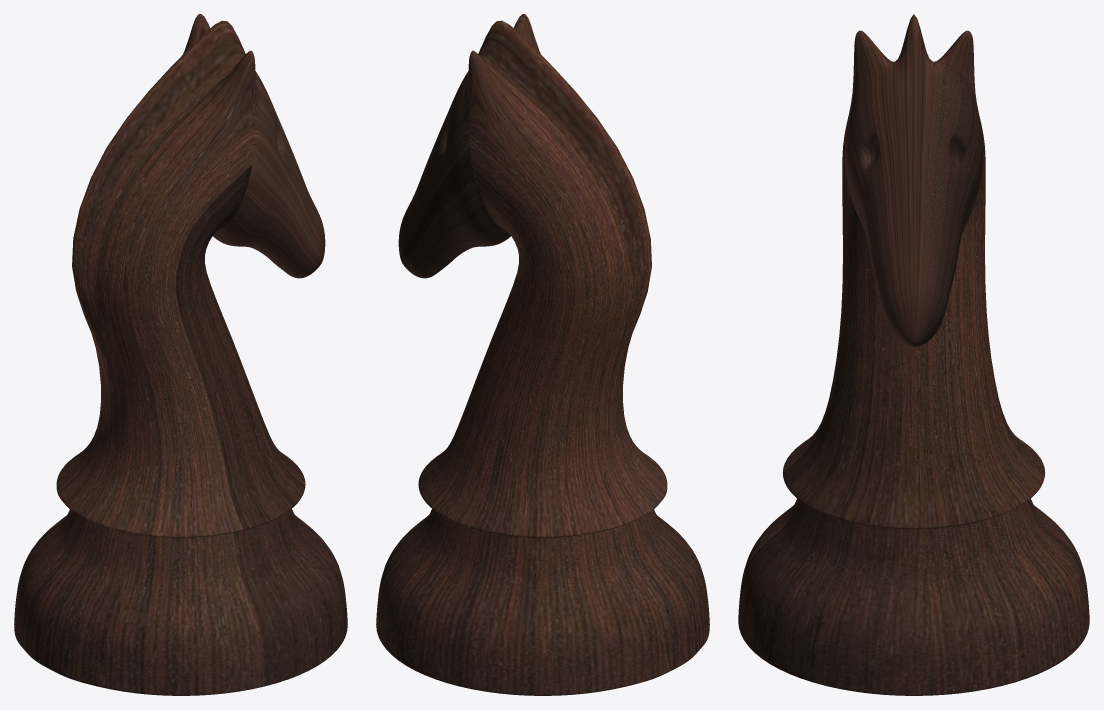
Rendered from BLACK_KNIGHT.glb.
3 views of the same model, side by side, from view 1: azimuth 30°, elevation 25°; view 2: azimuth 150°, elevation 25°; view 3: azimuth 270°, elevation 25° (orthographic). The views are drawn at different scales.
Parts seen in each view (by area): view 1: Cylinder001; view 2: Cylinder001; view 3: Cylinder001.
Boxes of the visible parts, x1,y1,x2,y2 form: Cylinder001: (14,14,347,695); Cylinder001: (376,14,709,695); Cylinder001: (738,14,1089,695).
Bounding box in the file's own units: 0.7102 × 1.39 × 0.7071.
Materials: 1 (1 with a texture image).
